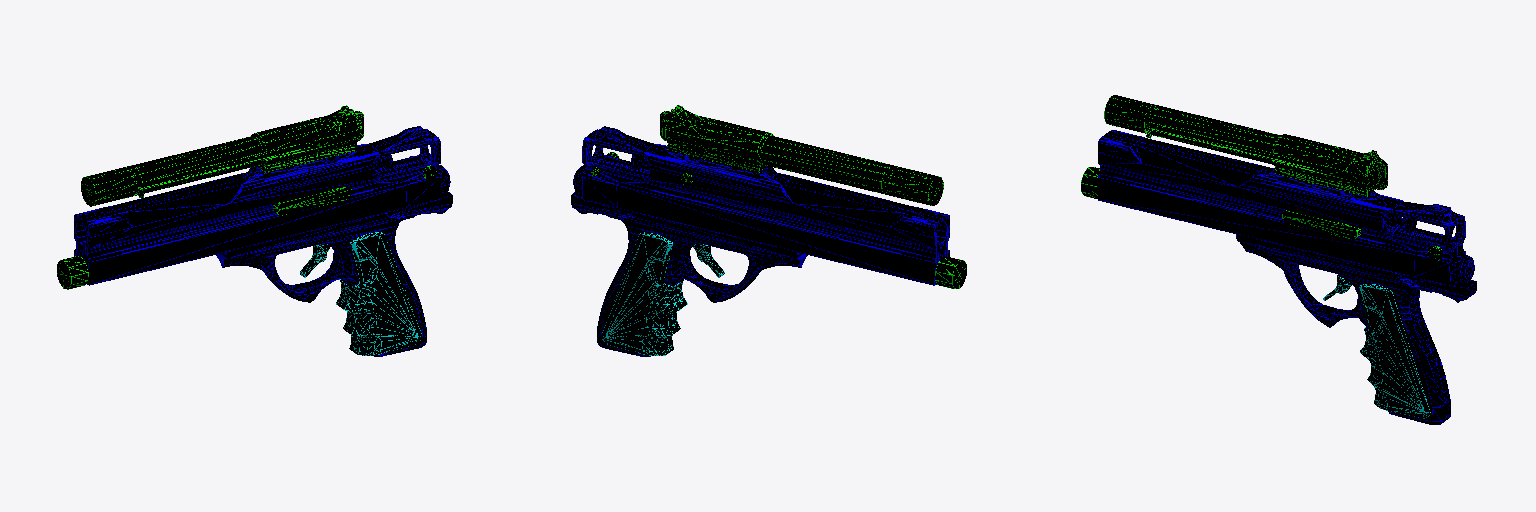
3 renders of one model, left to right at view 1: azimuth 30°, elevation 25°; view 2: azimuth 150°, elevation 25°; view 3: azimuth 330°, elevation 25°, orthographic.
Parts seen in each view (by area): view 1: Body, objt68p_accessories, grip_frame, grips, detent_left, co2_knob; view 2: Body, objt68p_accessories, grip_frame, grips, co2_knob; view 3: Body, objt68p_accessories, grip_frame, grips, detent_left, velocity_adjuster.
Part boxes in pixels (x1,y1,x2,y2): Body: (74,126,440,285); objt68p_accessories: (81,105,358,206); grip_frame: (216,192,452,356); grips: (336,232,421,355); detent_left: (273,186,351,215); co2_knob: (57,256,88,289); Body: (582,126,949,285); objt68p_accessories: (665,105,943,205); grip_frame: (571,192,807,356); grips: (601,232,687,355); co2_knob: (935,257,966,288); Body: (1098,130,1465,285); objt68p_accessories: (1104,95,1380,196); grip_frame: (1236,234,1476,424); grips: (1359,284,1430,418); detent_left: (1282,210,1360,239); velocity_adjuster: (1450,254,1474,283).
Size of the model in its own units: 3.05 by 1.91 by 0.2928.
3 materials, 3 textured.